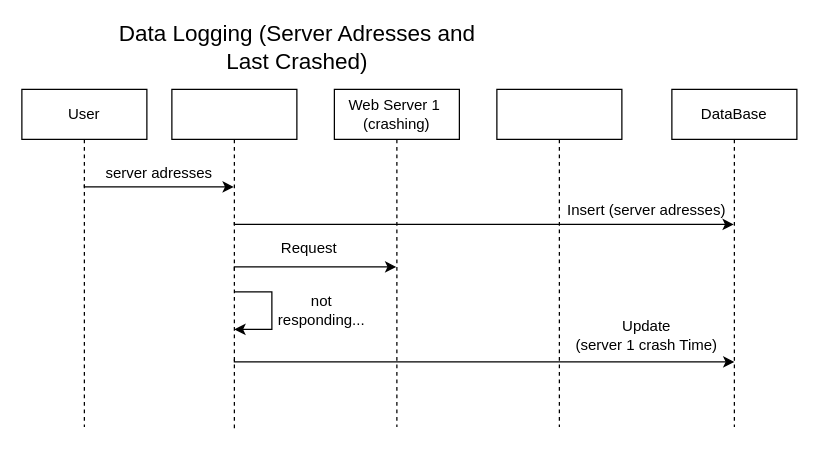
Image size: 819x451. Some labels were removed from this diagram. Each missing label, with the box of its shape:
Proxy Server: (171, 88, 297, 429)
Web Server 2: (496, 88, 622, 427)
